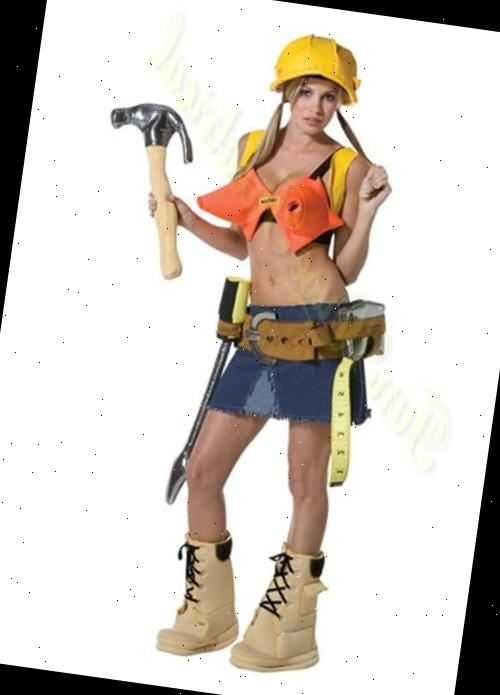helmet: (262, 25, 368, 107)
no_wear: (214, 128, 383, 334)
